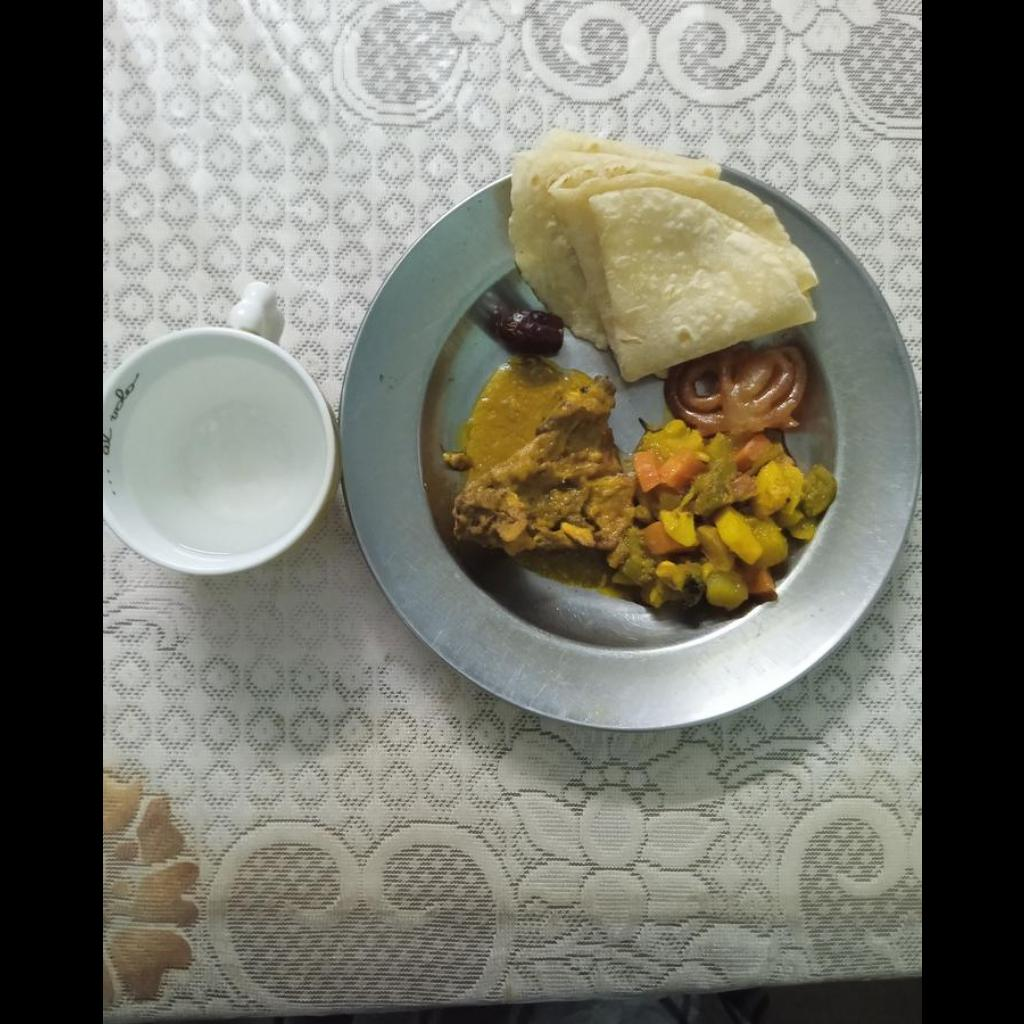chicken: (459, 382, 645, 576)
dates: (466, 271, 562, 356)
jilapi: (664, 344, 807, 440)
juice: (102, 327, 335, 575)
ruti: (510, 132, 827, 381)
vegetable: (636, 425, 828, 603)
